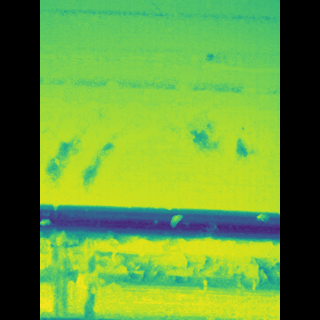Loch: (69, 90, 246, 200), (74, 226, 251, 320)
